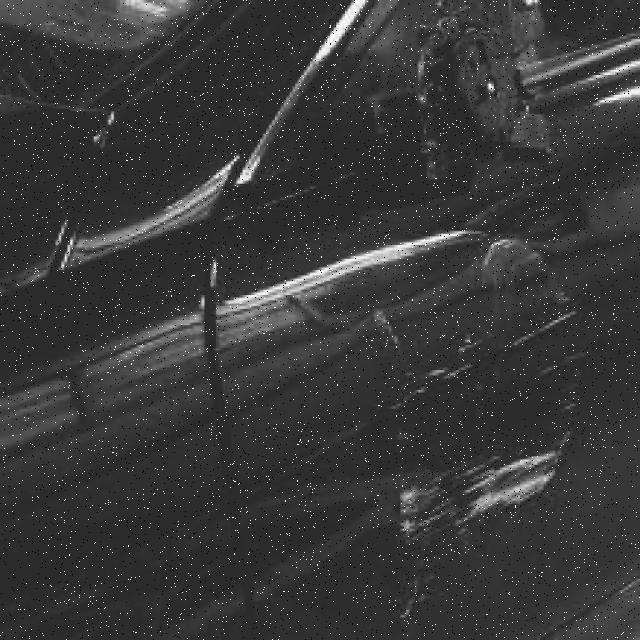car damage: (360, 232, 607, 611), (393, 7, 575, 186)
